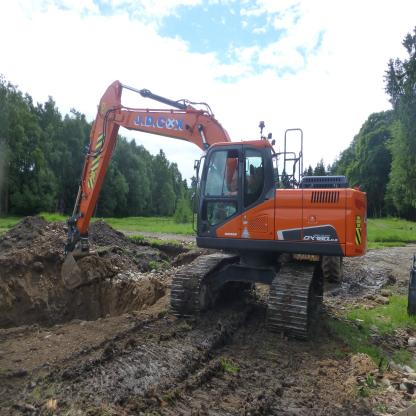excavator: (49, 71, 377, 360)
